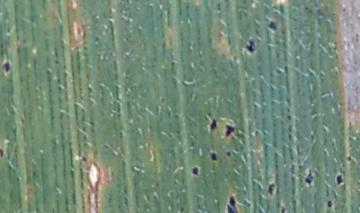tarspot: (222, 193, 240, 213), (223, 122, 236, 140), (303, 167, 314, 188), (244, 37, 255, 54), (208, 116, 218, 132), (2, 60, 12, 75), (208, 150, 219, 163), (190, 164, 201, 177), (267, 20, 278, 32), (267, 182, 275, 197), (335, 173, 343, 186), (345, 153, 353, 162), (80, 154, 88, 163), (325, 199, 333, 207), (279, 206, 287, 213), (1, 148, 6, 158), (225, 149, 231, 157)
